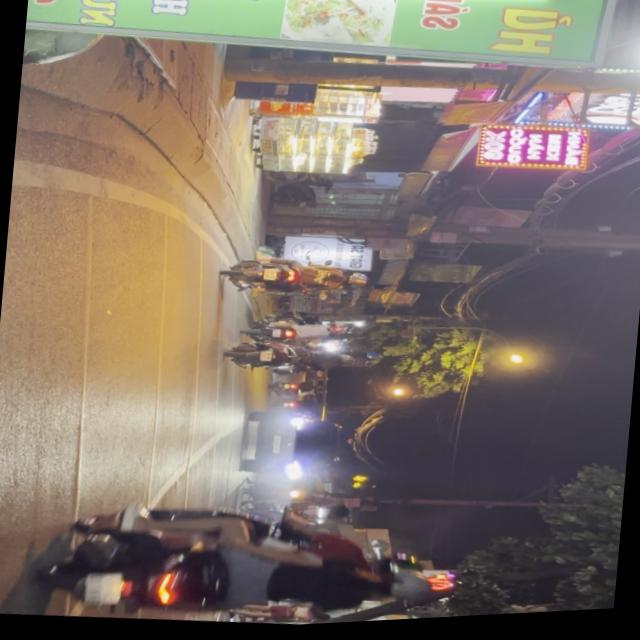helmet: (356, 569, 434, 616)
licenseplate: (12, 479, 457, 640)
nohelmet: (84, 571, 124, 609)
